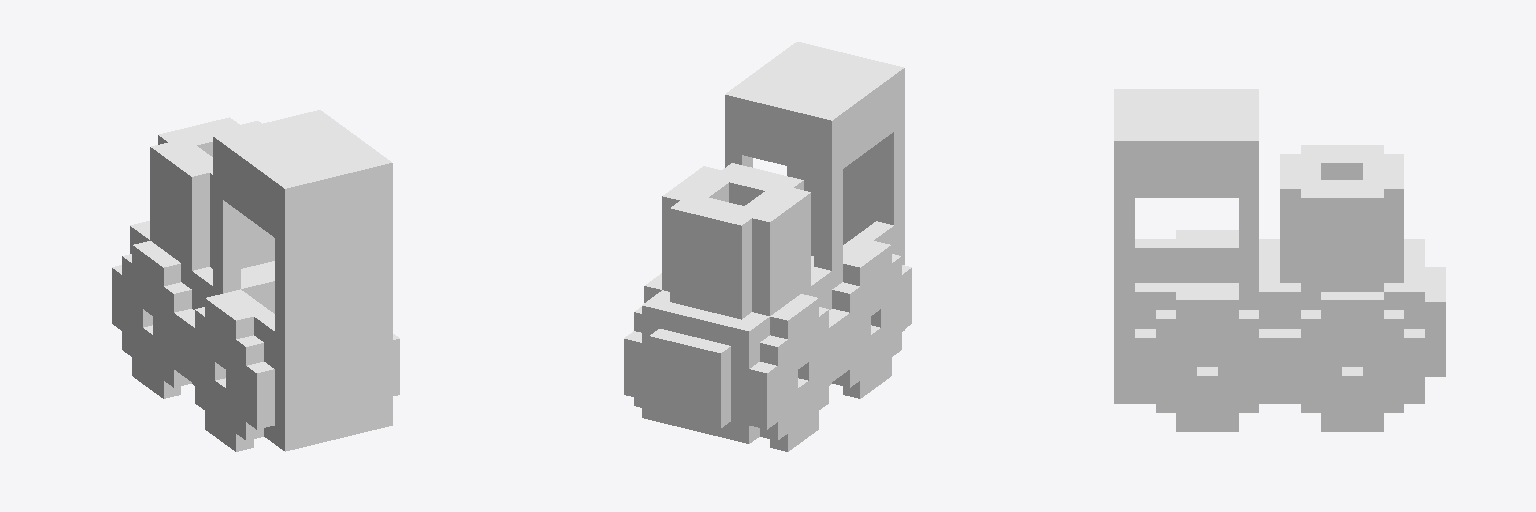
Rendered from Locomotive.obj.
3 views of the same model, side by side, from view 1: azimuth 30°, elevation 25°; view 2: azimuth 150°, elevation 25°; view 3: azimuth 270°, elevation 25° (orthographic).
Visible parts, largest first — view 1: object 1; view 2: object 1; view 3: object 1.
Boxes of the visible parts, <box> form: object 1: <box>112,110,399,451</box>; object 1: <box>624,42,911,451</box>; object 1: <box>1114,89,1445,431</box>.
Bounding box in the file's own units: 0.8 × 1.5 × 1.6.